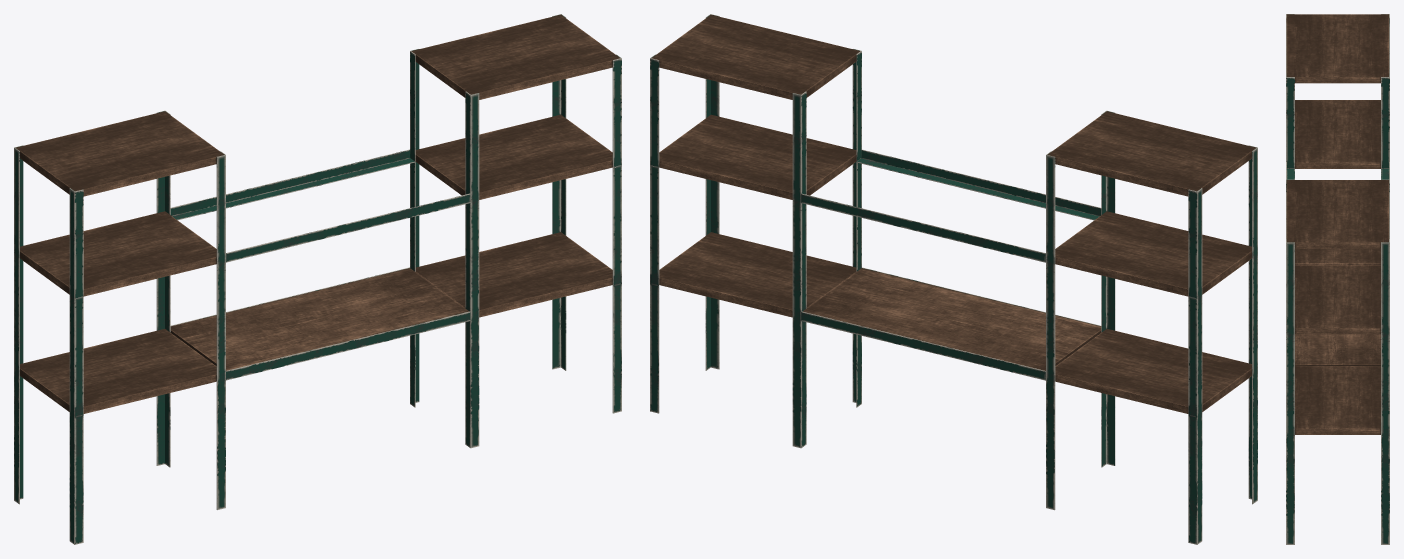
Rendered from shelf_empty.glb.
3 views of the same model, side by side, from view 1: azimuth 30°, elevation 25°; view 2: azimuth 150°, elevation 25°; view 3: azimuth 270°, elevation 25° (orthographic). The views are drawn at different scales.
Parts seen in each view (by area): view 1: Shelf; view 2: Shelf; view 3: Shelf.
Boxes of the visible parts, box(x1,y1,x2,y2) form: Shelf: box(14, 14, 621, 544); Shelf: box(650, 14, 1257, 544); Shelf: box(1286, 14, 1389, 544).
Bounding box in the file's own units: 4.01 × 2.47 × 0.7697.
2 materials, 2 textured.
